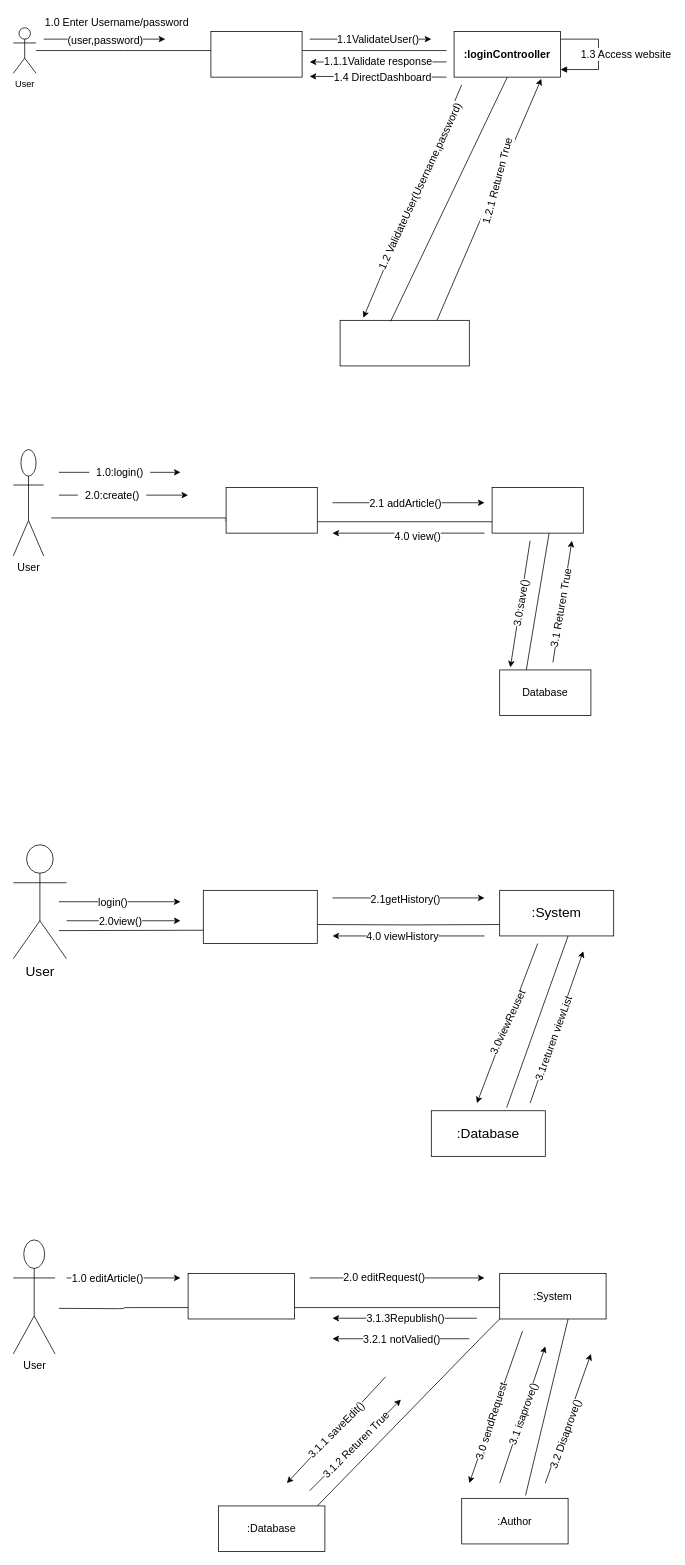
Image size: 685x1565. Some labels were removed from this diagram. The shapes that lost their labels are listed below. From the top down, each one's box as (x1, y1, x2, y2) in pixels, then its label:
(210, 31, 302, 77): :LoginUI
(339, 320, 469, 366): :User
(225, 487, 317, 533): :CreateUI
(491, 487, 583, 533): ArticleController
(203, 890, 317, 944): :ViewHistoryUI
(187, 1273, 294, 1319): :EditUI
